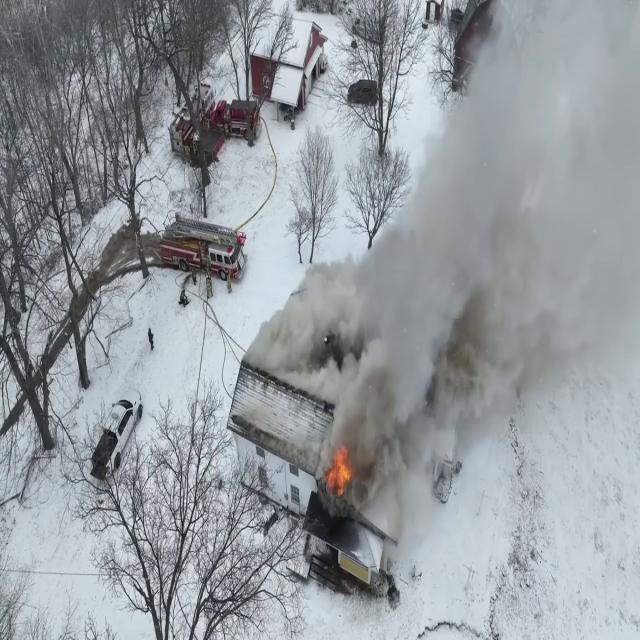Fire: (324, 438, 356, 500)
Smoke: (321, 0, 640, 433)
